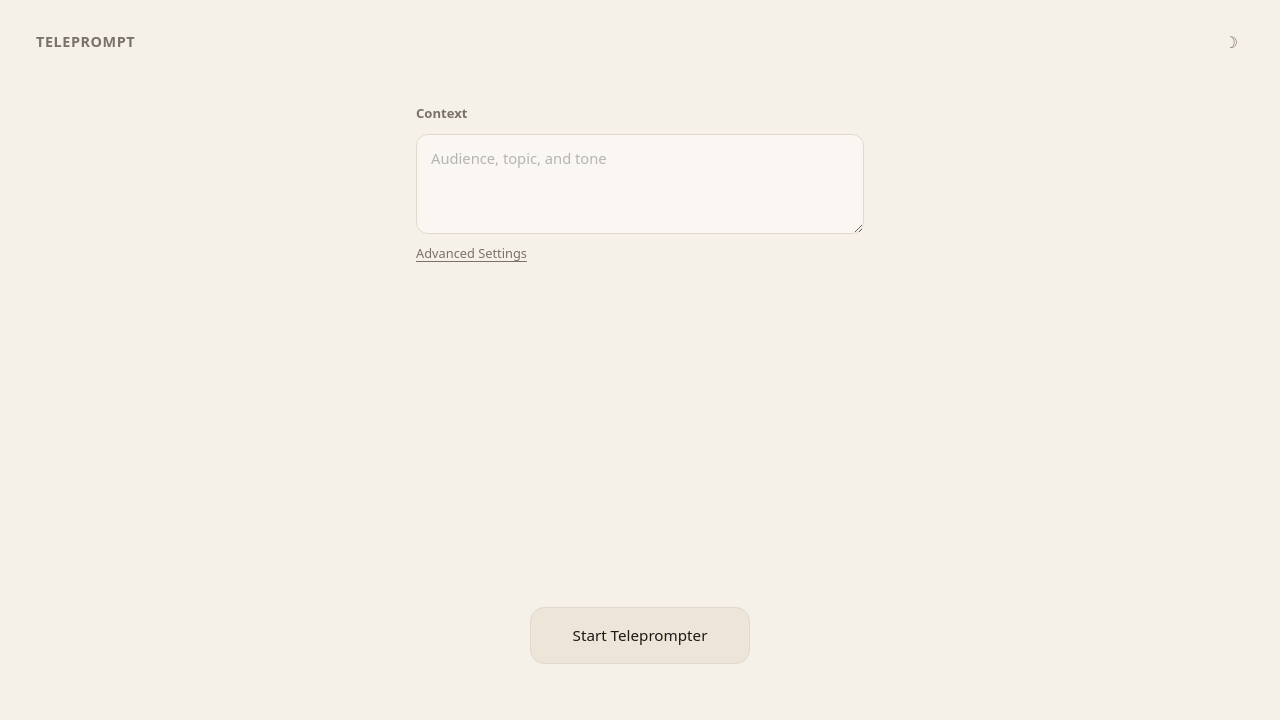
Test: Home — active screen › switches to active screen when Start is clicked
Click the button "Start Teleprompter" at [640, 636], box x1=530 y1=607 x2=750 y2=664
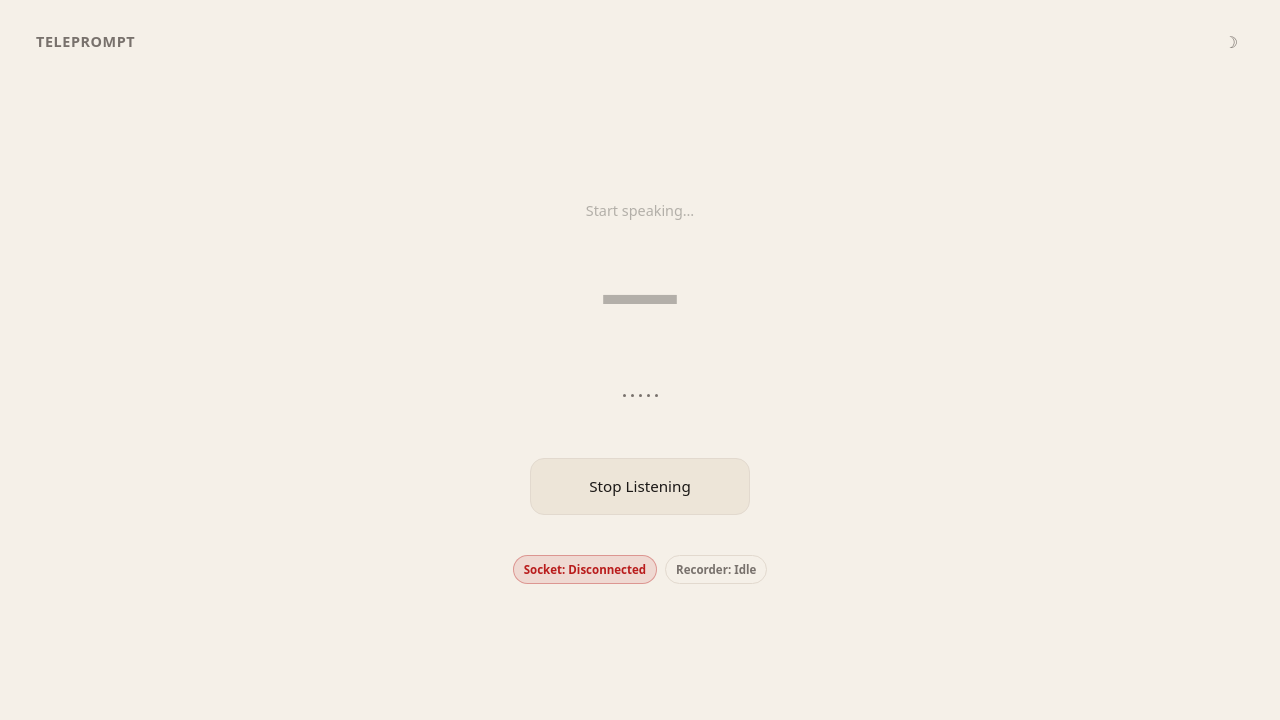
Expected: the button "Stop Listening" is shown, x1=530 y1=458 x2=750 y2=515
